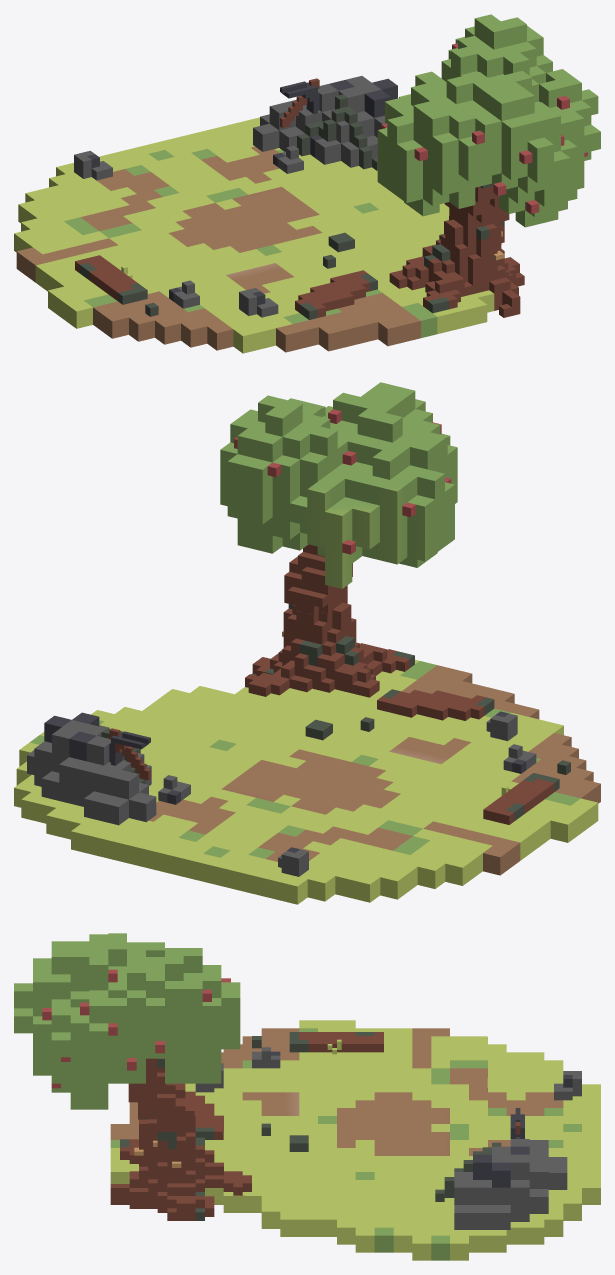
Rendered from ground_lv2.fbx.
3 views of the same model, one above another, from view 1: azimuth 30°, elevation 25°; view 2: azimuth 150°, elevation 25°; view 3: azimuth 270°, elevation 25° (orthographic). The views are drawn at different scales.
Parts seen in each view (by area): view 1: Cylinder.026; view 2: Cylinder.026; view 3: Cylinder.026.
Part boxes in pixels (x1,y1,x2,y2): Cylinder.026: (14, 14, 600, 353); Cylinder.026: (14, 382, 600, 904); Cylinder.026: (14, 933, 600, 1260).
Size of the model in its own units: 1120 by 602 by 1245.
